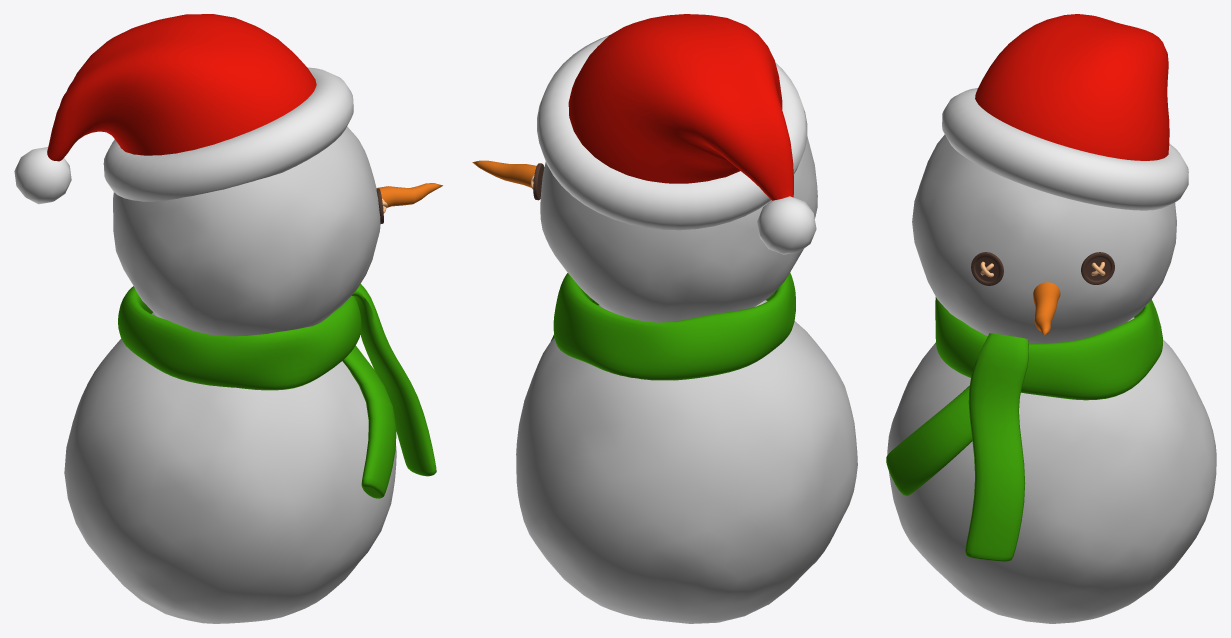
File: snowman.glb
3 views of the same model, side by side, from view 1: azimuth 30°, elevation 25°; view 2: azimuth 150°, elevation 25°; view 3: azimuth 270°, elevation 25° (orthographic). The views are drawn at different scales.
Visible parts, largest first — view 1: body, hat, colorPart, nose; view 2: body, hat, colorPart, nose; view 3: body, hat, colorPart, eyes, nose.
Part boxes in pixels (box(x1,y1,x2,y2)): body: box(64, 126, 396, 623); hat: box(14, 14, 353, 204); colorPart: box(118, 284, 436, 498); nose: box(376, 183, 442, 207); body: box(516, 136, 857, 623); hat: box(537, 14, 816, 254); colorPart: box(550, 272, 795, 380); nose: box(472, 160, 536, 187); body: box(887, 134, 1216, 623); hat: box(942, 14, 1188, 210); colorPart: box(886, 297, 1162, 561); eyes: box(971, 252, 1114, 285); nose: box(1033, 282, 1060, 335).
Size of the model in its own units: 2.56 by 3.75 by 1.99.
